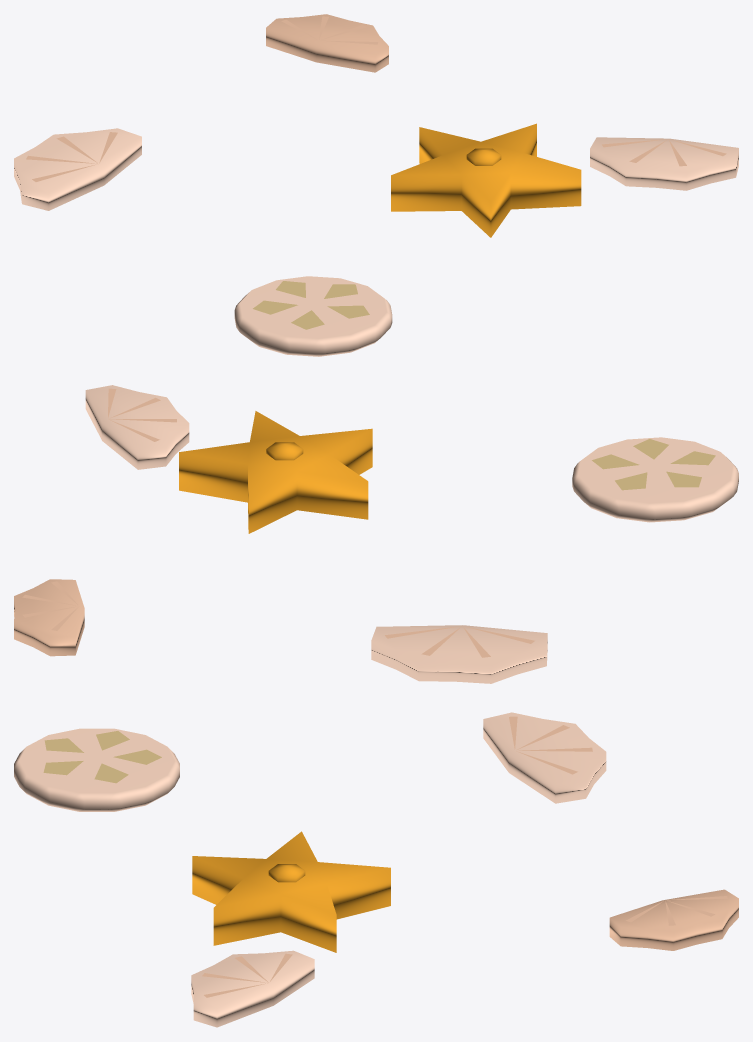
The model's file is shell_pile.glb.
3 renders of one model, top to bottom at view 1: azimuth 30°, elevation 25°; view 2: azimuth 150°, elevation 25°; view 3: azimuth 270°, elevation 25°, orthographic. The views are drawn at different scales.
Parts seen in each view (by area): view 1: Shells; view 2: Shells; view 3: Shells.
Part boxes in pixels (x1=…): Shells: x1=14, y1=14, x2=738, y2=356; Shells: x1=14, y1=385, x2=738, y2=683; Shells: x1=14, y1=712, x2=738, y2=1027.
Size of the model in its own units: 0.6636 by 0.05 by 0.6867.
